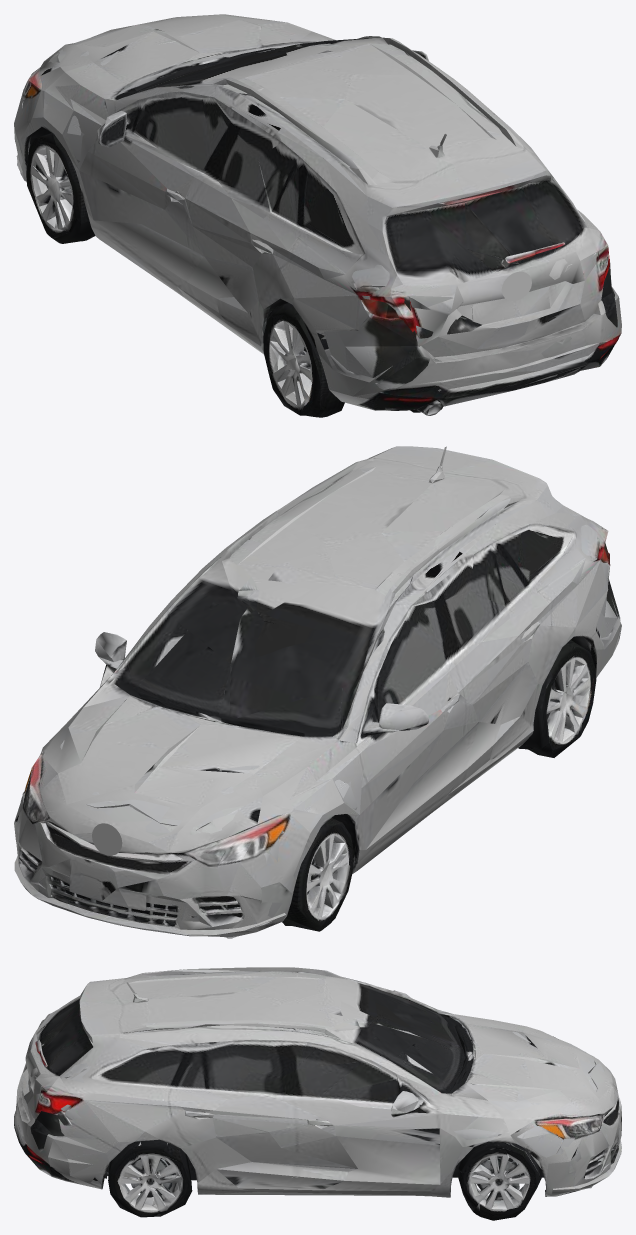
File: teleopVehSedan.7bc528fc.glb
3 renders of one model, top to bottom at view 1: azimuth 30°, elevation 25°; view 2: azimuth 150°, elevation 25°; view 3: azimuth 270°, elevation 25°, orthographic. The views are drawn at different scales.
Visible parts, largest first — view 1: output_unwrapped; view 2: output_unwrapped; view 3: output_unwrapped.
Part boxes in pixels (left/top/right/bottom): output_unwrapped: left=14, top=14, right=621, bottom=417; output_unwrapped: left=14, top=446, right=621, bottom=938; output_unwrapped: left=14, top=967, right=621, bottom=1220.
Size of the model in its own units: 0.8674 by 0.6622 by 1.9.
Materials: 3 (1 with a texture image).
